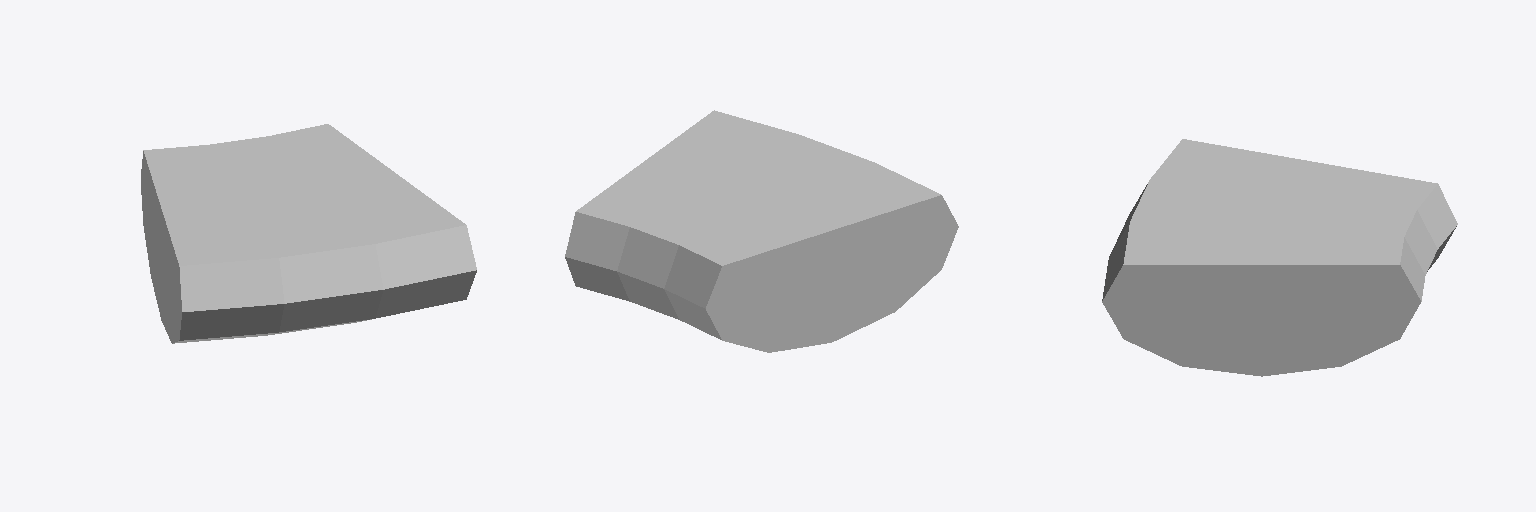
Rendered from StagePiece.obj.
3 renders of one model, left to right at view 1: azimuth 30°, elevation 25°; view 2: azimuth 150°, elevation 25°; view 3: azimuth 270°, elevation 25°, orthographic.
Visible parts, largest first — view 1: Ground右上1_トーラス.003; view 2: Ground右上1_トーラス.003; view 3: Ground右上1_トーラス.003.
Part boxes in pixels (x1,y1,x2,y2): Ground右上1_トーラス.003: (141,124,476,343); Ground右上1_トーラス.003: (565,110,958,352); Ground右上1_トーラス.003: (1102,139,1457,376).
Bounding box in the file's own units: 0.4245 × 0.1718 × 0.4944.